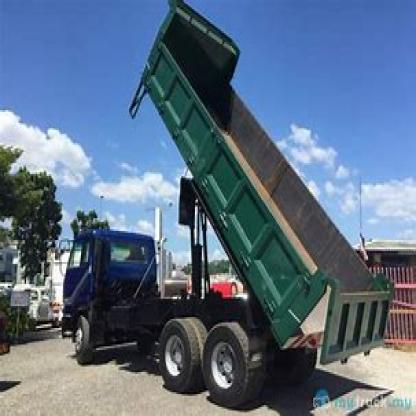dump_truck: (44, 7, 395, 412)
